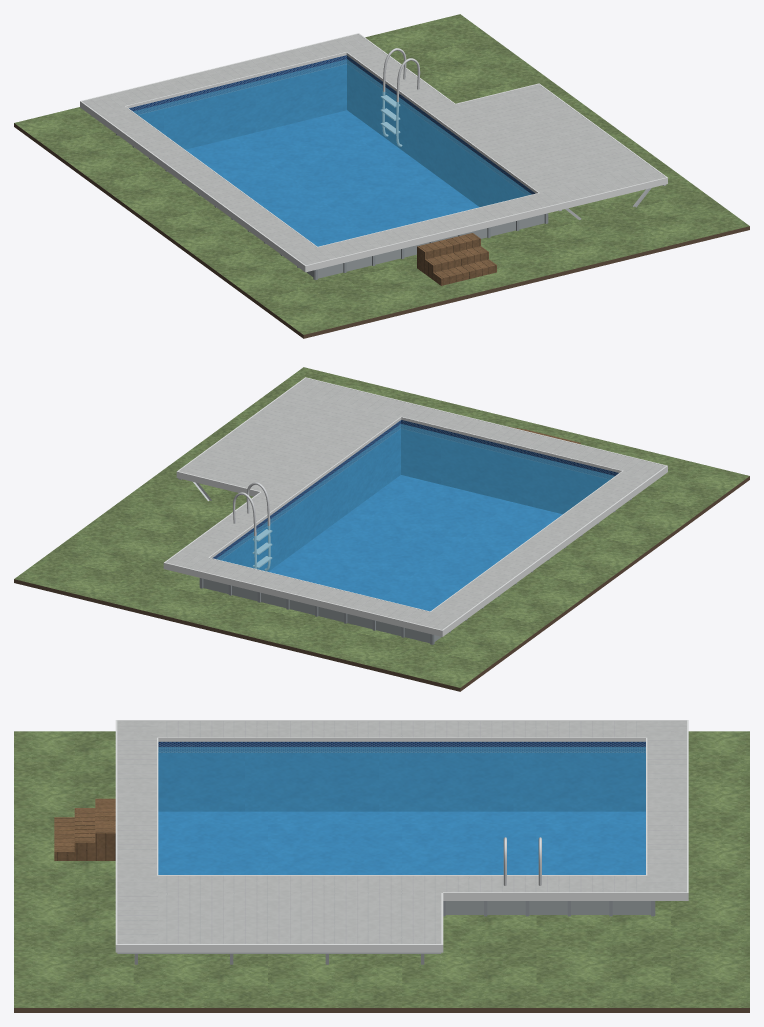
The model's file is kayak-pool-16x24-gray-l-rec-nofence.3f14a7cbfa.glb.
3 views of the same model, one above another, from view 1: azimuth 30°, elevation 25°; view 2: azimuth 150°, elevation 25°; view 3: azimuth 270°, elevation 25° (orthographic). The views are drawn at different scales.
Visible parts, largest first — view 1: ground, water, deck, liner_floor, liner_wall, fascia, soil, steps, wall, steel; view 2: ground, water, deck, liner_floor, liner_wall, fascia, soil, wall, steel; view 3: ground, water, deck, liner_wall, liner_floor, fascia, soil, steps, wall, stud.
Part boxes in pixels (box(x1,y1,x2,y2)): ground: box(14, 14, 749, 334); water: box(133, 59, 531, 246); deck: box(82, 34, 665, 265); liner_floor: box(186, 110, 478, 246); liner_wall: box(129, 55, 535, 206); fascia: box(80, 33, 667, 272); soil: box(14, 123, 749, 338); steps: box(417, 233, 496, 285); wall: box(306, 214, 544, 278); steel: box(380, 48, 420, 146); ground: box(14, 367, 749, 687); water: box(216, 424, 614, 611); deck: box(166, 378, 665, 629); liner_floor: box(269, 475, 562, 611); liner_wall: box(212, 420, 618, 571); fascia: box(163, 377, 667, 636); soil: box(14, 476, 749, 691); wall: box(203, 578, 441, 643); steel: box(233, 482, 272, 570); ground: box(14, 731, 749, 1007); water: box(158, 747, 645, 874); deck: box(117, 721, 686, 943); liner_wall: box(158, 741, 645, 811); liner_floor: box(158, 811, 645, 874); fascia: box(115, 720, 688, 952); soil: box(14, 1008, 749, 1012); steps: box(54, 798, 115, 860); wall: box(445, 901, 650, 914); stud: box(117, 952, 441, 964).
Size of the model in its own units: 9.75 by 1.9 by 10.97.
12 materials, 5 textured.
